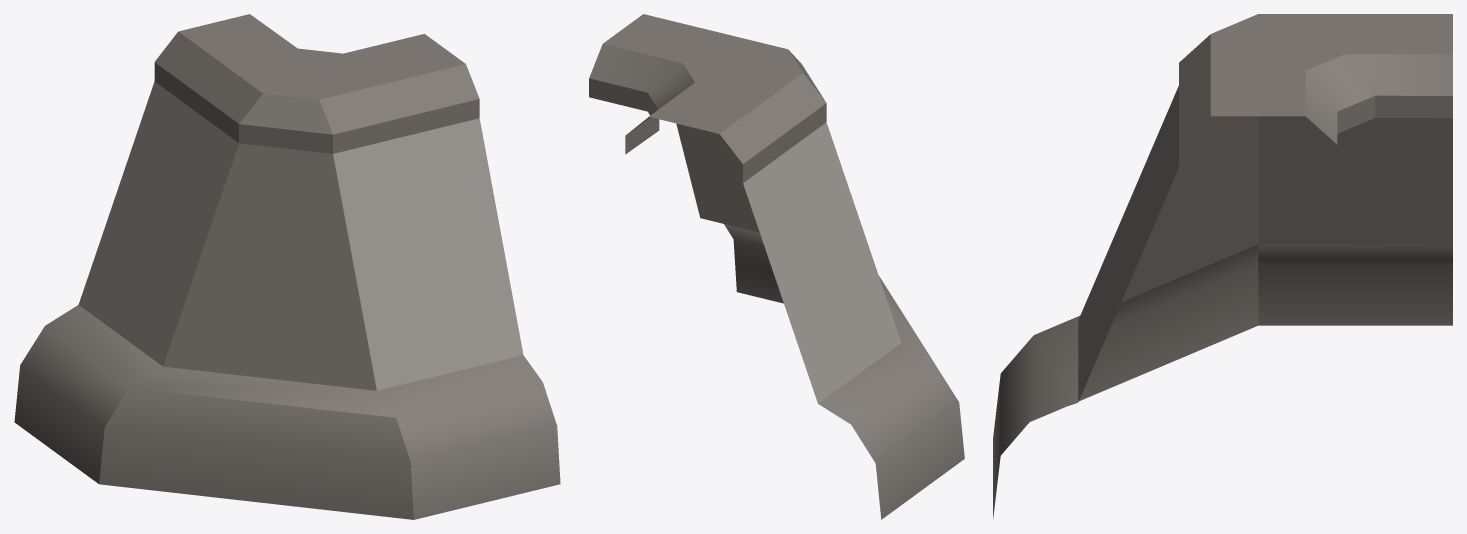
The model's file is Base Wall 01 Corner.FBX.
3 views of the same model, side by side, from view 1: azimuth 30°, elevation 25°; view 2: azimuth 150°, elevation 25°; view 3: azimuth 270°, elevation 25° (orthographic). The views are drawn at different scales.
Visible parts, largest first — view 1: Base Wall 01 Corner; view 2: Base Wall 01 Corner; view 3: Base Wall 01 Corner.
Part boxes in pixels (box(x1,y1,x2,y2)): Base Wall 01 Corner: box(14, 14, 560, 519); Base Wall 01 Corner: box(589, 14, 964, 519); Base Wall 01 Corner: box(993, 14, 1452, 518).
Size of the model in its own units: 118 by 114 by 118.
Materials: 1 (1 with a texture image).
